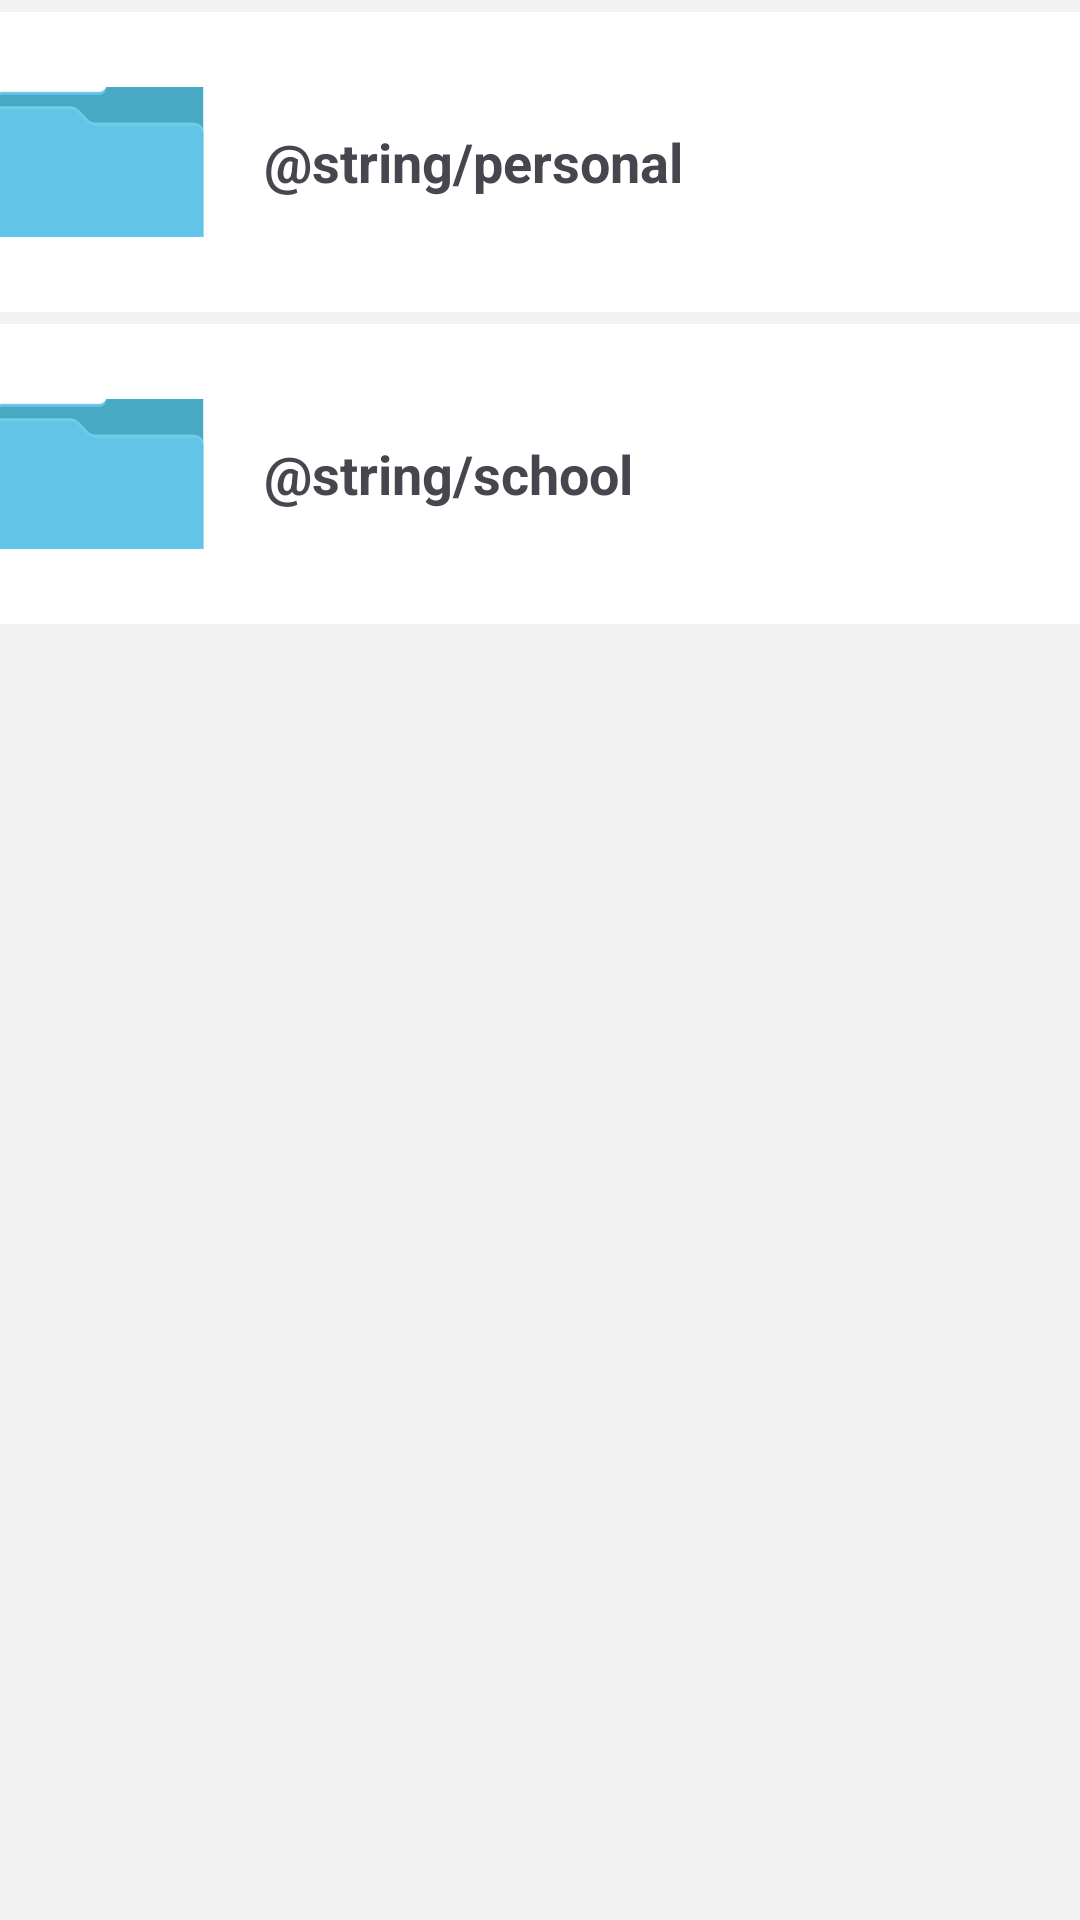

Screen size 1080×1920. Icon name, then its center in pixels as (x,y):
folder: (102,162), (102,474)
